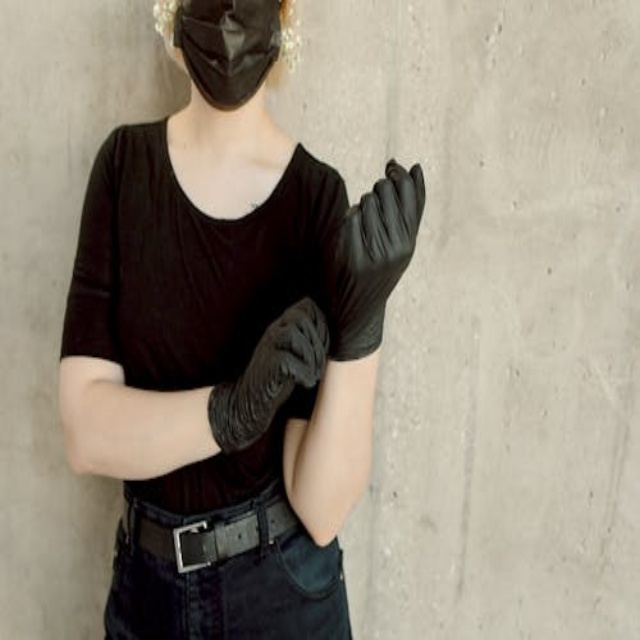Guantes: (325, 157, 427, 360), (207, 294, 329, 456)
Mascara: (173, 0, 283, 110)
